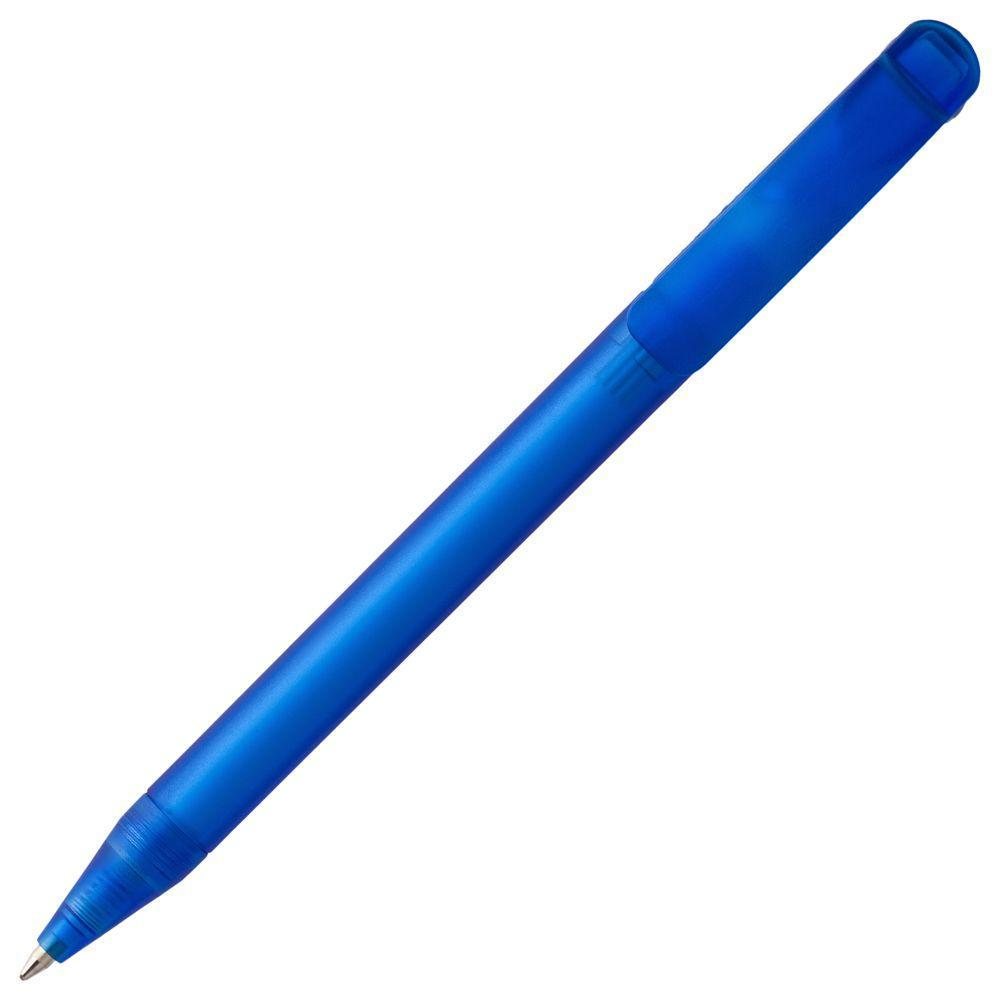pen-pencil: (30, 20, 979, 971)
